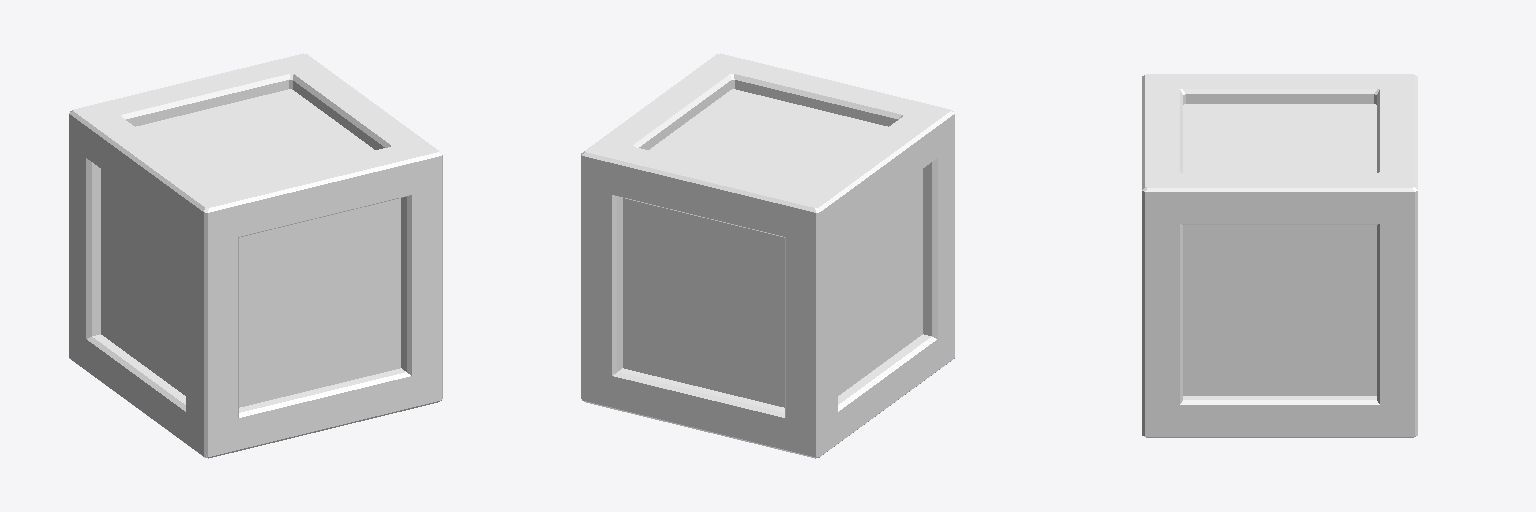
Rendered from Crate.obj.
3 views of the same model, side by side, from view 1: azimuth 30°, elevation 25°; view 2: azimuth 150°, elevation 25°; view 3: azimuth 270°, elevation 25° (orthographic).
Visible parts, largest first — view 1: wooden_crate; view 2: wooden_crate; view 3: wooden_crate.
Part boxes in pixels (left/top/right/bottom): wooden_crate: left=69, top=53, right=442, bottom=458; wooden_crate: left=581, top=53, right=954, bottom=458; wooden_crate: left=1142, top=74, right=1417, bottom=437.
Bounding box in the file's own units: 60 × 60 × 60.